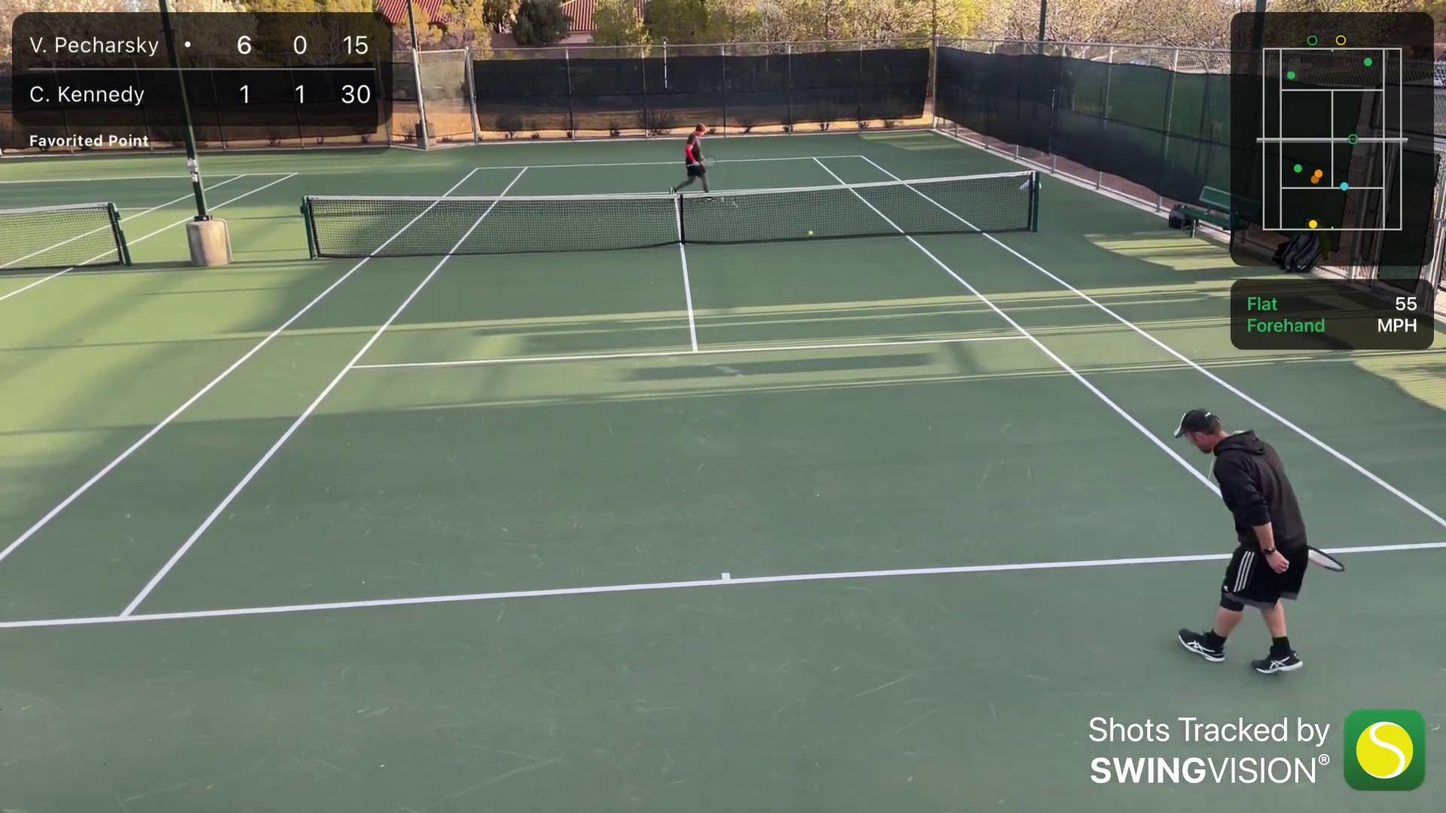ball: (808, 229, 815, 237)
